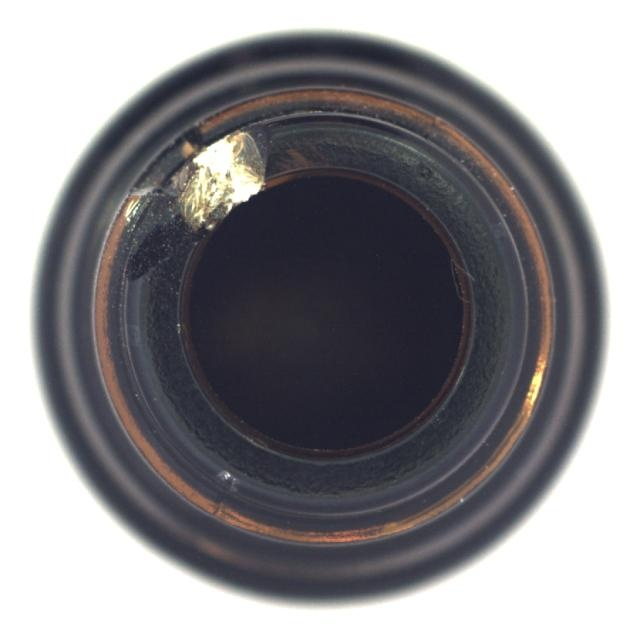bad-broken_small: (32, 29, 612, 611)
